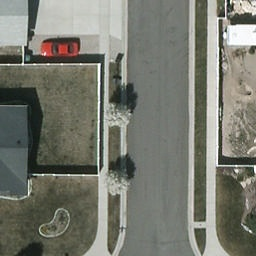car: (39, 38, 83, 57)
